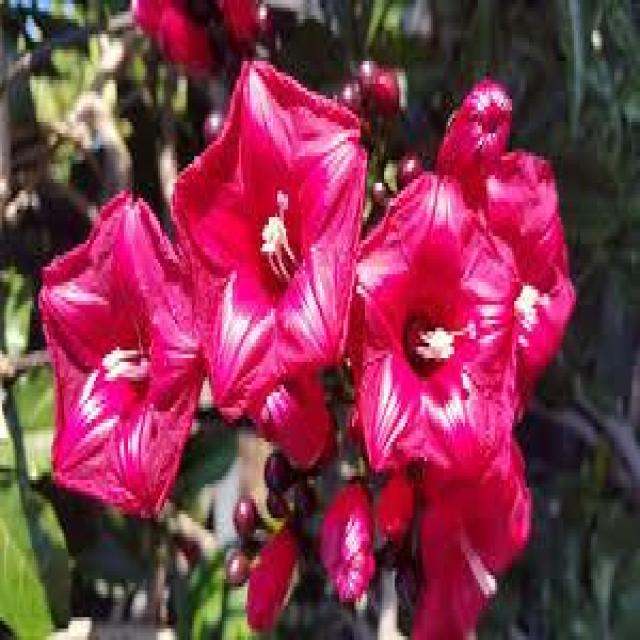organic waste: (174, 55, 368, 406), (37, 187, 234, 518), (338, 168, 528, 480)
